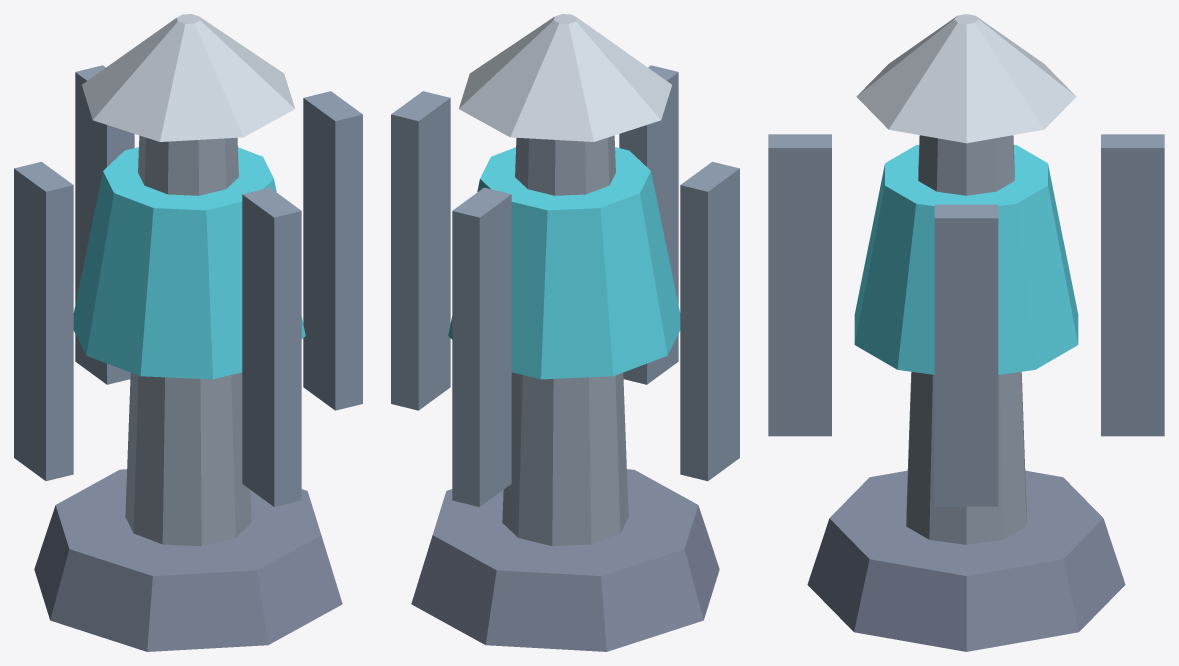
The model's file is warlike-scifi-beacon-3d.gltf.
3 renders of one model, left to right at view 1: azimuth 30°, elevation 25°; view 2: azimuth 150°, elevation 25°; view 3: azimuth 270°, elevation 25°, orthographic.
Parts seen in each view (by area): view 1: Part 0, Part 2, Part 1, Part 6, Part 5, Part 4, Part 3, Part 7; view 2: Part 0, Part 2, Part 1, Part 6, Part 7, Part 4, Part 3, Part 5; view 3: Part 0, Part 2, Part 4, Part 5, Part 7, Part 3, Part 1.
Boxes of the visible parts, x1=… form: Part 0: x1=34, y1=469, x2=342, y2=651; Part 2: x1=73, y1=147, x2=305, y2=379; Part 1: x1=125, y1=135, x2=251, y2=546; Part 6: x1=14, y1=161, x2=73, y2=481; Part 5: x1=242, y1=187, x2=301, y2=506; Part 4: x1=303, y1=91, x2=362, y2=410; Part 3: x1=82, y1=14, x2=294, y2=141; Part 7: x1=75, y1=65, x2=134, y2=384; Part 0: x1=411, y1=469, x2=719, y2=651; Part 2: x1=448, y1=147, x2=680, y2=379; Part 1: x1=502, y1=135, x2=628, y2=546; Part 6: x1=680, y1=161, x2=739, y2=481; Part 7: x1=452, y1=187, x2=511, y2=506; Part 4: x1=391, y1=91, x2=450, y2=410; Part 3: x1=459, y1=14, x2=671, y2=141; Part 5: x1=619, y1=65, x2=678, y2=384; Part 0: x1=807, y1=470, x2=1125, y2=651; Part 2: x1=854, y1=144, x2=1078, y2=374; Part 4: x1=934, y1=204, x2=998, y2=506; Part 5: x1=768, y1=134, x2=831, y2=436; Part 7: x1=1101, y1=134, x2=1164, y2=436; Part 3: x1=856, y1=14, x2=1076, y2=143; Part 1: x1=906, y1=135, x2=1026, y2=544.
Bounding box in the file's own units: 1.49 × 2.55 × 1.62.
